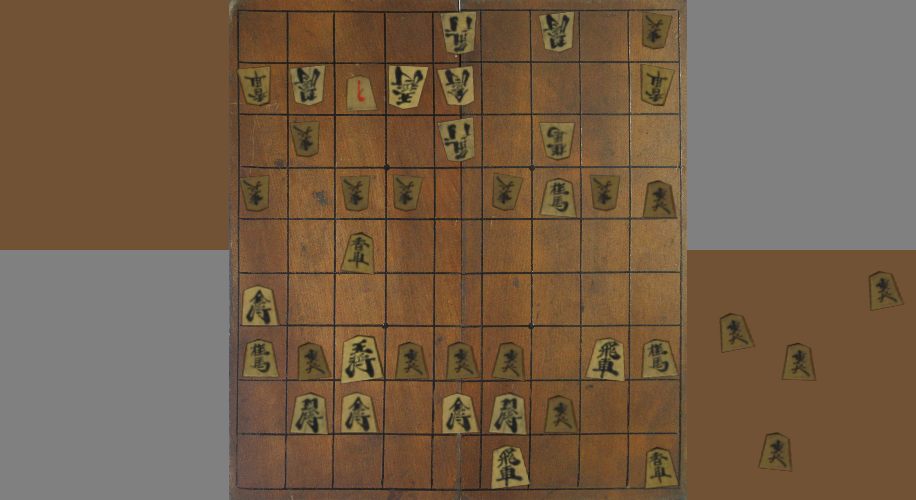A: (342, 335, 383, 384), (489, 441, 527, 490), (537, 173, 576, 219), (289, 392, 329, 436), (340, 229, 377, 276), (587, 336, 625, 381), (486, 395, 526, 437), (439, 394, 479, 436), (641, 444, 678, 489), (441, 338, 479, 381), (338, 392, 377, 433), (241, 284, 278, 327), (395, 340, 431, 383), (640, 178, 677, 219), (541, 393, 578, 434), (491, 340, 527, 382), (641, 338, 678, 378), (296, 339, 331, 381), (241, 339, 279, 377), (343, 74, 377, 114)
B: (485, 172, 530, 217), (389, 66, 427, 109), (339, 172, 373, 217), (439, 118, 474, 161), (639, 64, 673, 106), (639, 10, 672, 53), (441, 13, 475, 54), (287, 119, 321, 159), (438, 67, 473, 105), (540, 12, 574, 51), (291, 66, 324, 105), (589, 173, 621, 212), (541, 123, 574, 159), (390, 175, 422, 212), (239, 67, 270, 105), (242, 176, 268, 211)
C: (717, 311, 755, 353), (869, 272, 903, 310), (759, 433, 792, 472), (782, 344, 815, 380)
